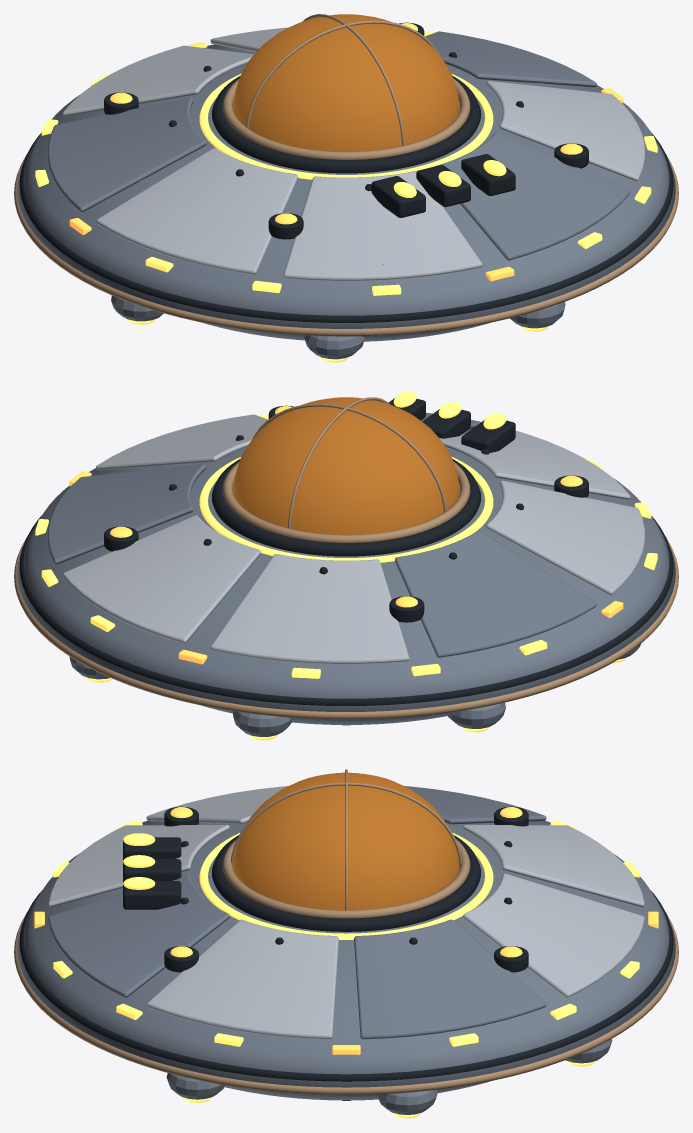
File: ufo-cinematic.glb
3 views of the same model, one above another, from view 1: azimuth 30°, elevation 25°; view 2: azimuth 150°, elevation 25°; view 3: azimuth 270°, elevation 25° (orthographic).
Parts seen in each view (by area): view 1: Upper Rotor, Alien Hull, Class Hardware; view 2: Upper Rotor, Alien Hull, Class Hardware; view 3: Upper Rotor, Alien Hull, Class Hardware.
Part boxes in pixels (x1,y1,x2,y2): Upper Rotor: [35, 14, 657, 295]; Alien Hull: [14, 44, 678, 362]; Class Hardware: [371, 154, 515, 217]; Upper Rotor: [35, 397, 657, 678]; Alien Hull: [14, 429, 678, 740]; Class Hardware: [388, 391, 515, 452]; Upper Rotor: [34, 769, 658, 1054]; Alien Hull: [14, 820, 678, 1118]; Class Hardware: [123, 833, 181, 909].
Bounding box in the file's own units: 2.05 × 0.925 × 2.05.
